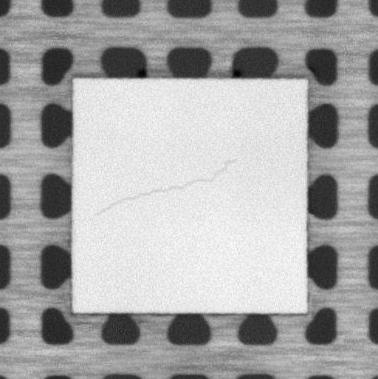DIE_CRACK: (93, 158, 237, 215)
